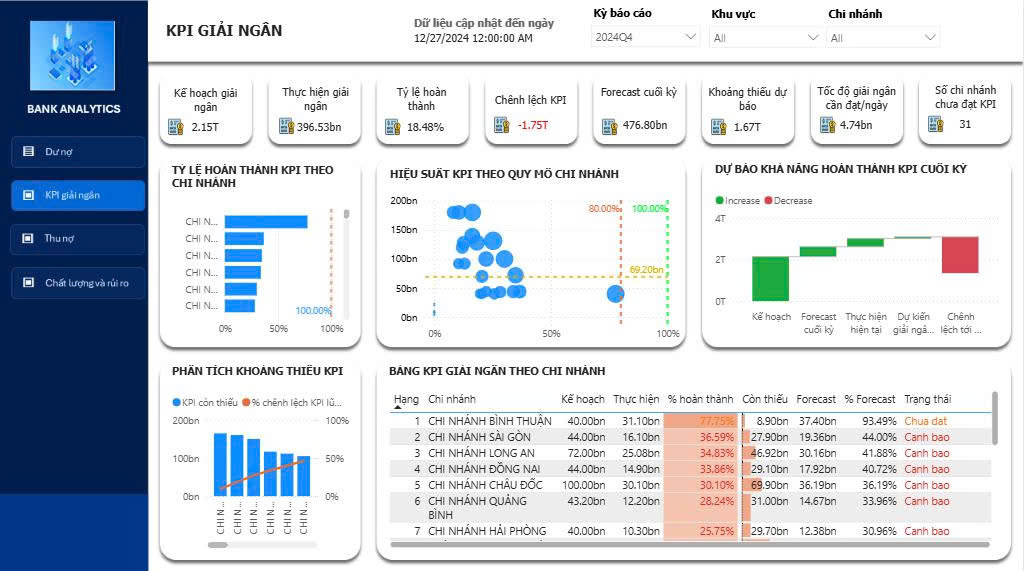

What the dashboard file says about the page in this screenshot:
{"tool":"powerbi","page":{"name":"KPI","canvas":[1280,720],"ordinal":2},"visuals":[{"type":"textbox","box":[203.3,21.4,346.3,34],"z":0},{"type":"cardVisual","fields":{"Data":["KPI.Ngay_max_dulieu"]},"box":[513.8,0,213.3,76.8],"z":1000},{"type":"slicer","fields":{"Values":["DateTable.YearQuarter"]},"box":[735.2,9.2,147.1,55.7],"z":2000},{"type":"slicer","fields":{"Values":["KHUVUC.TEN_KHUVUC"]},"box":[882,10.3,152.7,55.4],"z":3000},{"type":"slicer","fields":{"Values":["CHINHANH.TEN_CHINHANH_RUTGON"]},"box":[1028.8,10.3,152.7,55.4],"z":4000},{"type":"cardVisual","fields":{"Data":["KPI.KEHOACH_GIAINGAN"]},"box":[203.3,140.1,108.9,37],"z":5000},{"type":"textbox","box":[203.3,102.1,108.9,44.7],"z":6000},{"type":"image","box":[211.1,140.1,20.4,37],"z":7000},{"type":"cardVisual","fields":{"Data":["Measure.TONG_GIAINGAN_TRONGKY"]},"box":[350,139.8,100.9,36.8],"z":8000},{"type":"textbox","box":[341.7,101.4,108.9,44.7],"z":9000},{"type":"image","box":[349.5,139.4,20.4,37],"z":10000},{"type":"cardVisual","fields":{"Data":["KPI.TYLE_HOANTHANH"]},"box":[482.4,140.1,101.2,37],"z":11000},{"type":"textbox","box":[474.2,101.7,108.9,44.7],"z":12000},{"type":"image","box":[482,139.6,20.4,37],"z":13000},{"type":"cardVisual","fields":{"Data":["KPI.CHENHLECH_KPI"]},"box":[617.9,137.7,100.9,36.8],"z":14000},{"type":"textbox","box":[610.2,111.3,109,28.7],"z":15000},{"type":"image","box":[618.2,137.7,20.4,37],"z":16000},{"type":"cardVisual","fields":{"Data":["KPI.DUBAO_GIAINGAN_CUOIKY"]},"box":[753.5,137.6,108.9,37],"z":17000},{"type":"textbox","box":[745.6,101.7,108.9,44.7],"z":18000},{"type":"image","box":[753.4,139.6,20.4,37],"z":19000},{"type":"cardVisual","fields":{"Data":["KPI.KHOANGTHIEU_DUBAO"]},"box":[881.8,139.6,108.9,37],"z":20000},{"type":"textbox","box":[881.8,101.7,108.9,44.7],"z":21000},{"type":"image","box":[889.5,139.6,20.4,37],"z":22000},{"type":"cardVisual","fields":{"Data":["KPI.TOCDO_GIAINGAN_CANDAT"]},"box":[1017.9,137.7,108.9,37],"z":23000},{"type":"textbox","box":[1017.9,99.8,108.9,44.7],"z":24000},{"type":"image","box":[1025.7,137.7,20.4,37],"z":25000},{"type":"cardVisual","fields":{"Data":["KPI.SO_CN_CHUADAT_KPI"]},"box":[1153.1,136.7,108.9,37],"z":26000},{"type":"textbox","box":[1153.1,98.8,108.9,44.7],"z":27000},{"type":"image","box":[1160.9,136.7,20.4,37],"z":28000},{"type":"clusteredBarChart","title":"TỶ LỆ HOÀN THÀNH KPI THEO CHI NHÁNH","fields":{"Category":["CHINHANH.TEN_CHINHANH_RUTGON"],"Y":["KPI.TYLE_HOANTHANH"]},"box":[210.9,204.5,232.1,223.6],"z":29000},{"type":"waterfallChart","title":"DỰ BÁO KHẢ NĂNG HOÀN THÀNH KPI CUỐI KỲ","fields":{"Category":["Forecast_Bridge.ChiTieu"],"Y":["KPI.FORECAST_BRIDGE_VALUE"]},"box":[890,204.2,364.7,223.7],"z":30000},{"type":"scatterChart","title":"HIỆU SUẤT KPI THEO QUY MÔ CHI NHÁNH","fields":{"Category":["CHINHANH.TEN_CHINHANH_RUTGON"],"Size":["Measure.TONG_GIAINGAN_TRONGKY"],"X":["KPI.TYLE_HOANTHANH"],"Y":["KPI.KEHOACH_GIAINGAN"]},"box":[483.2,209.8,371.9,224.6],"z":31000},{"type":"lineClusteredColumnComboChart","title":"PHÂN TÍCH KHOẢNG THIẾU KPI","fields":{"Category":["CHINHANH.TEN_CHINHANH_RUTGON"],"Y":["KPI.CONTHIEU_DEDAT_KPI"],"Y2":["KPI.% CHENHLECH_KPI_LUYKE"]},"box":[211,456.5,231.7,234],"z":32000},{"type":"tableEx","title":"BẢNG KPI GIẢI NGÂN THEO CHI NHÁNH","fields":{"Values":["KPI.XEPHANG_CHINHANH_KPI","CHINHANH.TEN_CHINHANH_RUTGON","KPI.KEHOACH_GIAINGAN","Measure.TONG_GIAINGAN_TRONGKY","KPI.TYLE_HOANTHANH","KPI.CONTHIEU_DEDAT_KPI","KPI.DUBAO_GIAINGAN_CUOIKY","KPI.% DUBAO_GIAINGAN_CUOIKY","KPI.TRANGTHAI_KPI"]},"box":[482.9,456.5,771.6,234.3],"z":33000},{"type":"actionButton","box":[14.9,278.7,167.5,36.7],"z":34000},{"type":"actionButton","box":[14.9,333.8,167.5,36.7],"z":35000},{"type":"actionButton","box":[14.9,173.2,167.5,36.7],"z":36000}]}

Visuals, with their boxes on the page's 1280x720 design canvas (x1, y1, x2, y2). These are canvas units, not pixel positions in the 1024x571 screenshot, which may show the page scaled, cropped or inside an application window:
textbox: rect(203, 21, 550, 55)
cardVisual - KPI.Ngay_max_dulieu: rect(514, 0, 727, 77)
slicer - DateTable.YearQuarter: rect(735, 9, 882, 65)
slicer - KHUVUC.TEN_KHUVUC: rect(882, 10, 1035, 66)
slicer - CHINHANH.TEN_CHINHANH_RUTGON: rect(1029, 10, 1182, 66)
cardVisual - KPI.KEHOACH_GIAINGAN: rect(203, 140, 312, 177)
textbox: rect(203, 102, 312, 147)
image: rect(211, 140, 232, 177)
cardVisual - Measure.TONG_GIAINGAN_TRONGKY: rect(350, 140, 451, 177)
textbox: rect(342, 101, 451, 146)
image: rect(350, 139, 370, 176)
cardVisual - KPI.TYLE_HOANTHANH: rect(482, 140, 584, 177)
textbox: rect(474, 102, 583, 146)
image: rect(482, 140, 502, 177)
cardVisual - KPI.CHENHLECH_KPI: rect(618, 138, 719, 174)
textbox: rect(610, 111, 719, 140)
image: rect(618, 138, 639, 175)
cardVisual - KPI.DUBAO_GIAINGAN_CUOIKY: rect(754, 138, 862, 175)
textbox: rect(746, 102, 854, 146)
image: rect(753, 140, 774, 177)
cardVisual - KPI.KHOANGTHIEU_DUBAO: rect(882, 140, 991, 177)
textbox: rect(882, 102, 991, 146)
image: rect(890, 140, 910, 177)
cardVisual - KPI.TOCDO_GIAINGAN_CANDAT: rect(1018, 138, 1127, 175)
textbox: rect(1018, 100, 1127, 144)
image: rect(1026, 138, 1046, 175)
cardVisual - KPI.SO_CN_CHUADAT_KPI: rect(1153, 137, 1262, 174)
textbox: rect(1153, 99, 1262, 144)
image: rect(1161, 137, 1181, 174)
"TỶ LỆ HOÀN THÀNH KPI THEO CHI NHÁNH" clusteredBarChart: rect(211, 204, 443, 428)
"DỰ BÁO KHẢ NĂNG HOÀN THÀNH KPI CUỐI KỲ" waterfallChart: rect(890, 204, 1255, 428)
"HIỆU SUẤT KPI THEO QUY MÔ CHI NHÁNH" scatterChart: rect(483, 210, 855, 434)
"PHÂN TÍCH KHOẢNG THIẾU KPI" lineClusteredColumnComboChart: rect(211, 456, 443, 690)
"BẢNG KPI GIẢI NGÂN THEO CHI NHÁNH" tableEx: rect(483, 456, 1254, 691)
actionButton: rect(15, 279, 182, 315)
actionButton: rect(15, 334, 182, 370)
actionButton: rect(15, 173, 182, 210)
